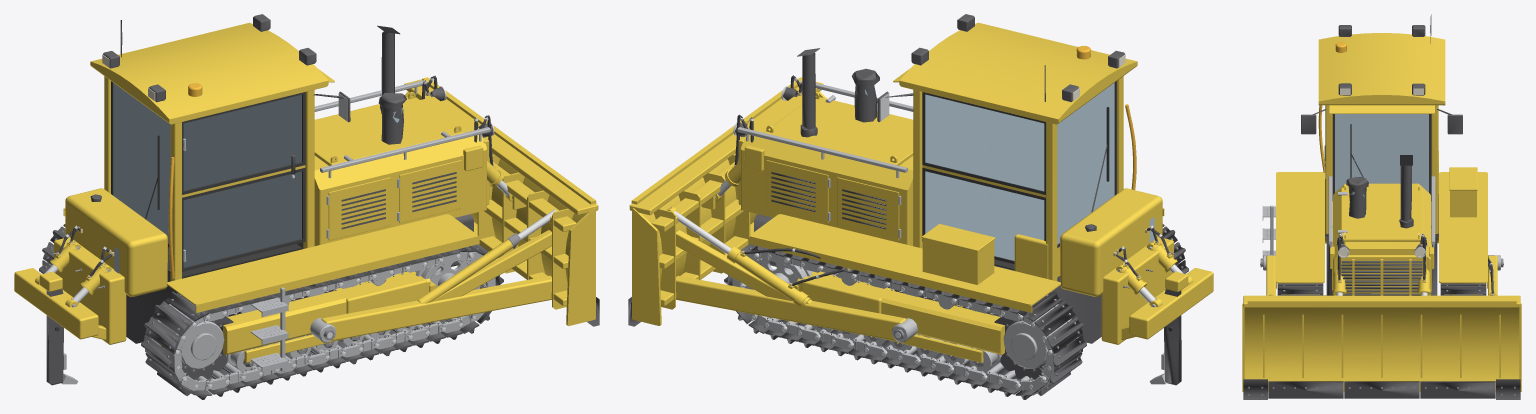
File: SampleBulldozerFull_mid.glb
3 renders of one model, left to right at view 1: azimuth 30°, elevation 25°; view 2: azimuth 150°, elevation 25°; view 3: azimuth 270°, elevation 25°, orthographic. The views are drawn at different scales.
Size of the model in its own units: 5314 by 3470 by 3430.
